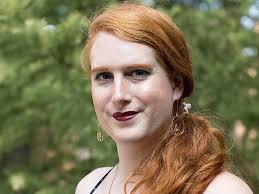Persons: (83, 4, 192, 152)
